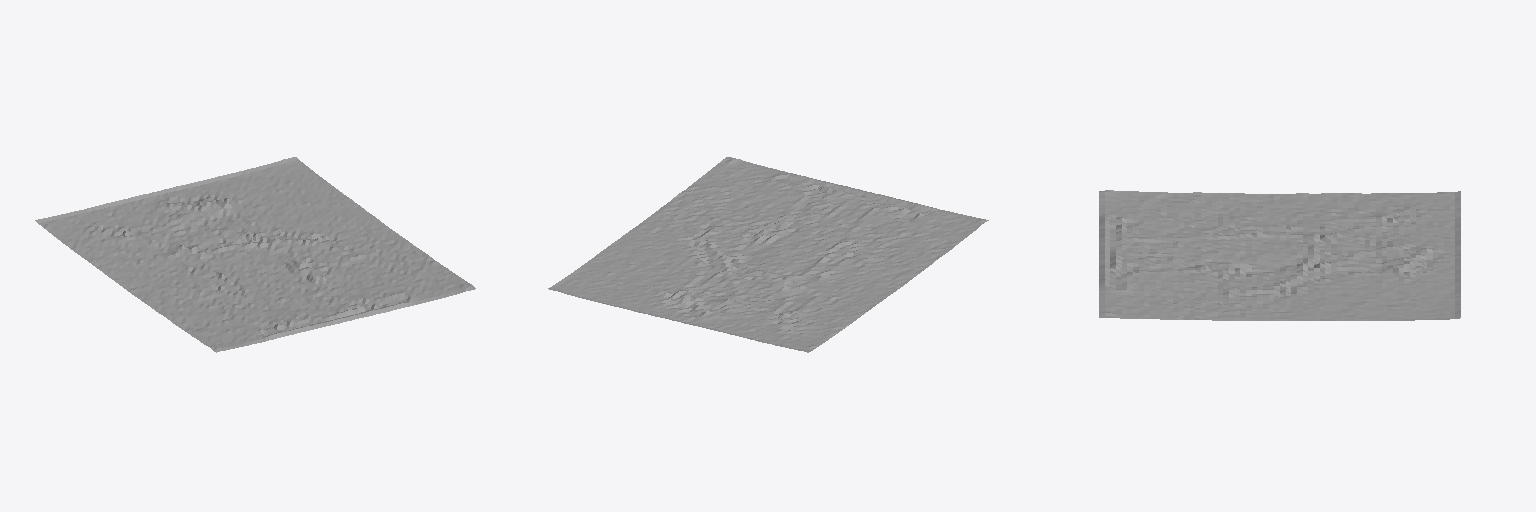
File: atropos.obj
3 views of the same model, side by side, from view 1: azimuth 30°, elevation 25°; view 2: azimuth 150°, elevation 25°; view 3: azimuth 270°, elevation 25° (orthographic).
Parts seen in each view (by area): view 1: Plane; view 2: Plane; view 3: Plane.
Boxes of the visible parts, box(x1,y1,x2,y2) form: Plane: box(35, 157, 475, 352); Plane: box(548, 157, 988, 352); Plane: box(1099, 190, 1460, 320).
Size of the model in its own units: 3.6 by 0.0977 by 4.32.